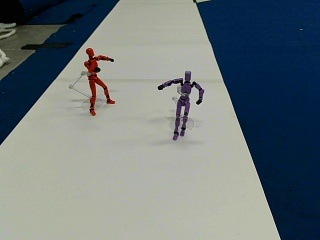pedestrian: (156, 70, 203, 138), (83, 47, 115, 115)
